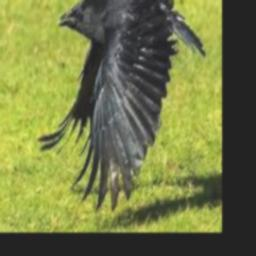Crow: (37, 0, 206, 212)
